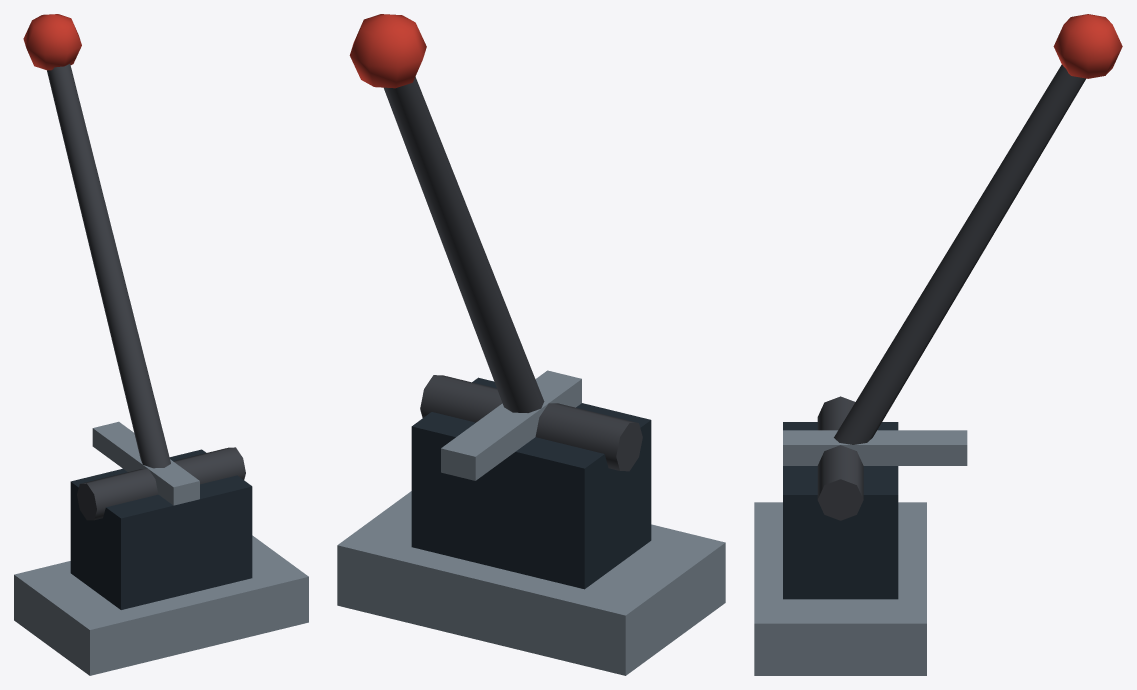
The model's file is floor-lever-lod1.glb.
The picture shows the model from 3 angles, left to right: view 1: azimuth 30°, elevation 25°; view 2: azimuth 150°, elevation 25°; view 3: azimuth 270°, elevation 25°; orthographic projection. The views are drawn at different scales.
Parts seen in each view (by area): view 1: base-plate, housing, arm-rod, pivot-pin, slot-guard, arm-knob; view 2: base-plate, housing, arm-rod, pivot-pin, slot-guard, arm-knob; view 3: base-plate, housing, arm-rod, slot-guard, pivot-pin, arm-knob.
Boxes of the visible parts, x1=… form: base-plate: x1=14, y1=535, x2=308, y2=675; housing: x1=70, y1=449, x2=252, y2=609; arm-rod: x1=47, y1=64, x2=170, y2=468; pivot-pin: x1=77, y1=447, x2=245, y2=520; slot-guard: x1=92, y1=421, x2=199, y2=505; arm-knob: x1=23, y1=14, x2=81, y2=70; base-plate: x1=337, y1=491, x2=725, y2=675; housing: x1=411, y1=377, x2=651, y2=589; arm-rod: x1=384, y1=77, x2=544, y2=412; pivot-pin: x1=420, y1=375, x2=642, y2=471; slot-guard: x1=441, y1=370, x2=581, y2=480; arm-knob: x1=349, y1=14, x2=426, y2=88; base-plate: x1=754, y1=502, x2=926, y2=675; housing: x1=783, y1=422, x2=898, y2=599; arm-rod: x1=834, y1=64, x2=1085, y2=444; slot-guard: x1=783, y1=430, x2=967, y2=465; pivot-pin: x1=817, y1=396, x2=863, y2=520; arm-knob: x1=1053, y1=14, x2=1122, y2=78.
Bounding box in the file's own units: 0.5 × 1.15 × 0.64.
